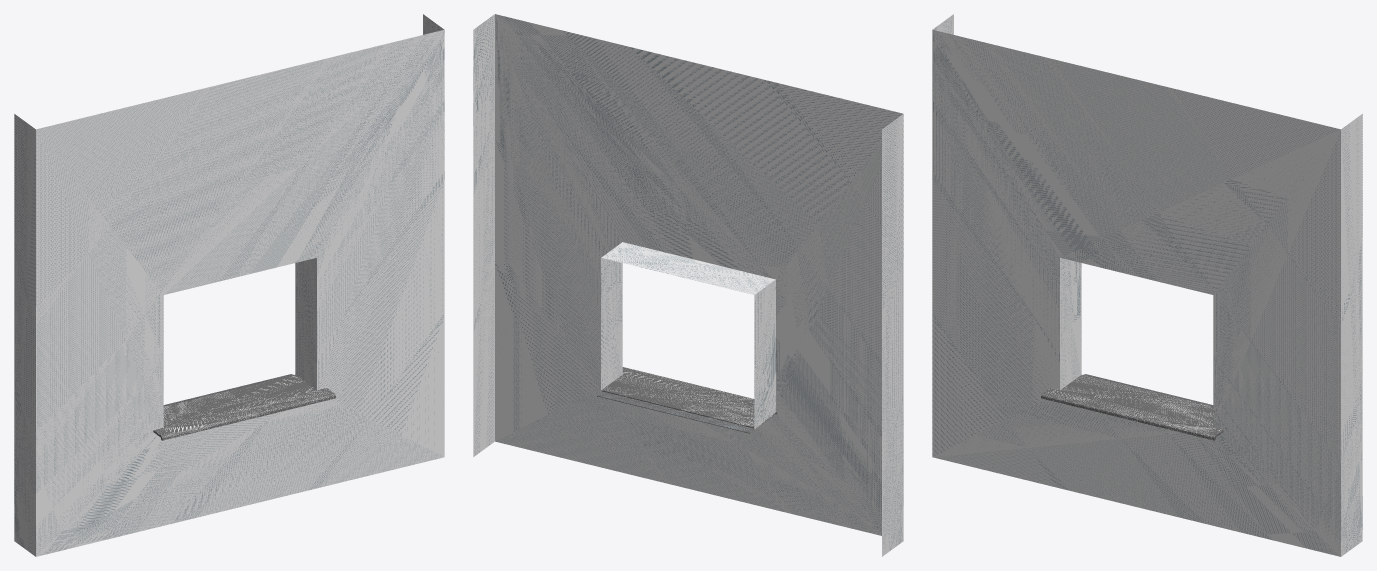
Rendered from WindowBlock_os_[400x400]_150x124x[090].dae.
3 renders of one model, left to right at view 1: azimuth 30°, elevation 25°; view 2: azimuth 150°, elevation 25°; view 3: azimuth 330°, elevation 25°, orthographic.
Parts seen in each view (by area): view 1: group_1 (×2), group_2; view 2: group_1 (×2), group_2 (×2); view 3: group_1 (×2), group_2.
Boxes of the visible parts, left/top/right/bottom form: group_1 (×2): left=14, top=14, right=444, bottom=556; group_2: left=153, top=374, right=335, bottom=440; group_1 (×2): left=473, top=14, right=903, bottom=556; group_2 (×2): left=597, top=367, right=777, bottom=433; group_1 (×2): left=932, top=14, right=1362, bottom=556; group_2: left=1041, top=374, right=1222, bottom=440.
Size of the model in its own units: 157 by 23.03 by 157.
